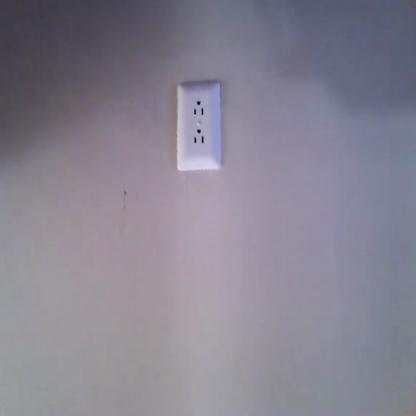OUTLET: (176, 81, 222, 171)
